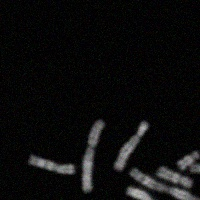chromosome: (130, 168, 200, 200), (115, 121, 148, 172), (83, 119, 105, 193), (29, 156, 75, 174), (157, 167, 192, 186), (126, 186, 161, 200), (177, 151, 199, 171), (190, 163, 200, 181)
